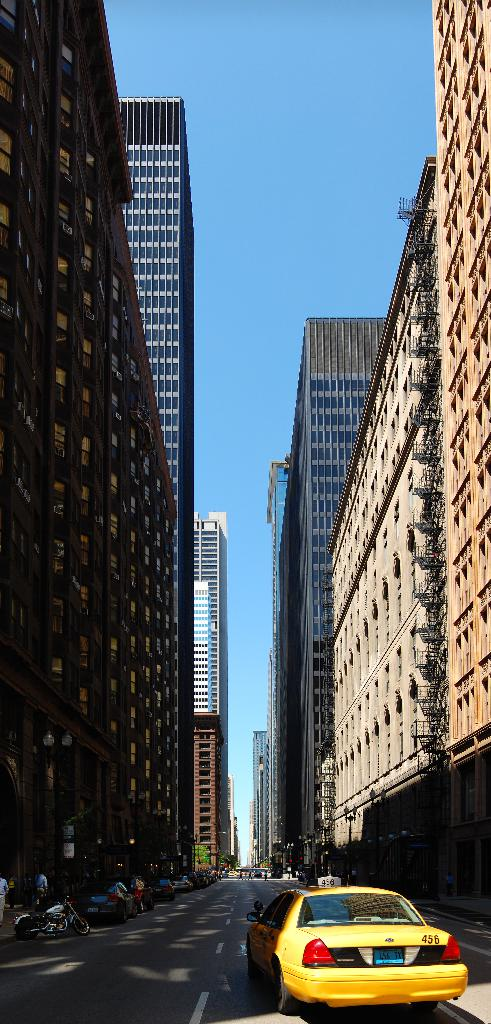mobil: (231, 865, 479, 1007)
